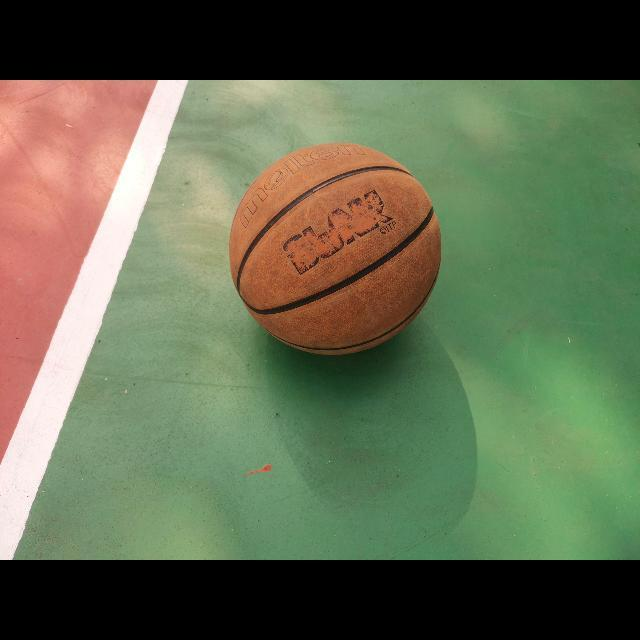basketball: (232, 142, 442, 354)
